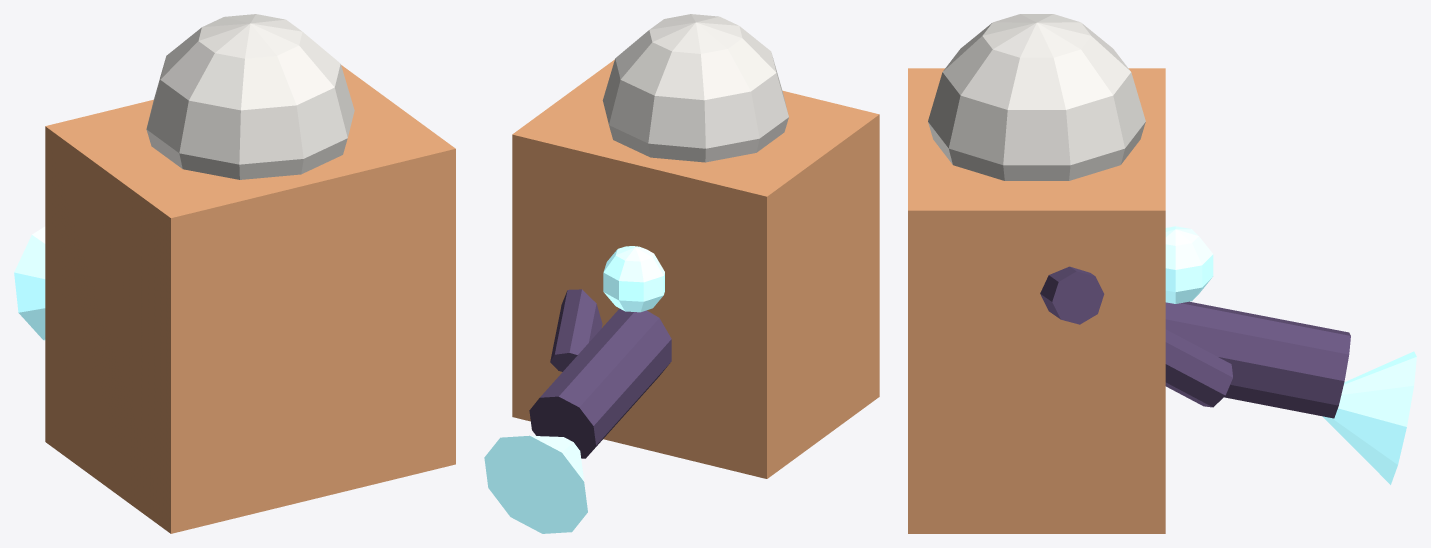
File: tool_ind.glb
The picture shows the model from 3 angles, left to right: view 1: azimuth 30°, elevation 25°; view 2: azimuth 150°, elevation 25°; view 3: azimuth 270°, elevation 25°; orthographic projection. The views are drawn at different scales.
Visible parts, largest first — view 1: body, cap, mouth; view 2: body, cap, nozzle, mouth, lamp, hose_b; view 3: body, cap, nozzle, mouth, hose_b, lamp, hose_a.
Part boxes in pixels (<box>): body: <box>45,65,455,533</box>; cap: <box>146,14,354,179</box>; mouth: <box>14,226,45,340</box>; body: <box>512,59,879,478</box>; cap: <box>602,14,788,162</box>; nozzle: <box>529,308,671,458</box>; mouth: <box>484,435,587,533</box>; lamp: <box>603,246,664,312</box>; hose_b: <box>550,289,602,371</box>; body: <box>908,68,1165,533</box>; cap: <box>928,14,1145,180</box>; nozzle: <box>1165,301,1350,418</box>; mouth: <box>1322,351,1416,484</box>; hose_b: <box>1165,329,1232,407</box>; lamp: <box>1165,226,1213,303</box>; hose_a: <box>1040,266,1104,324</box>.
Bounding box in the file's own units: 0.5049 × 0.687 × 0.6932.
